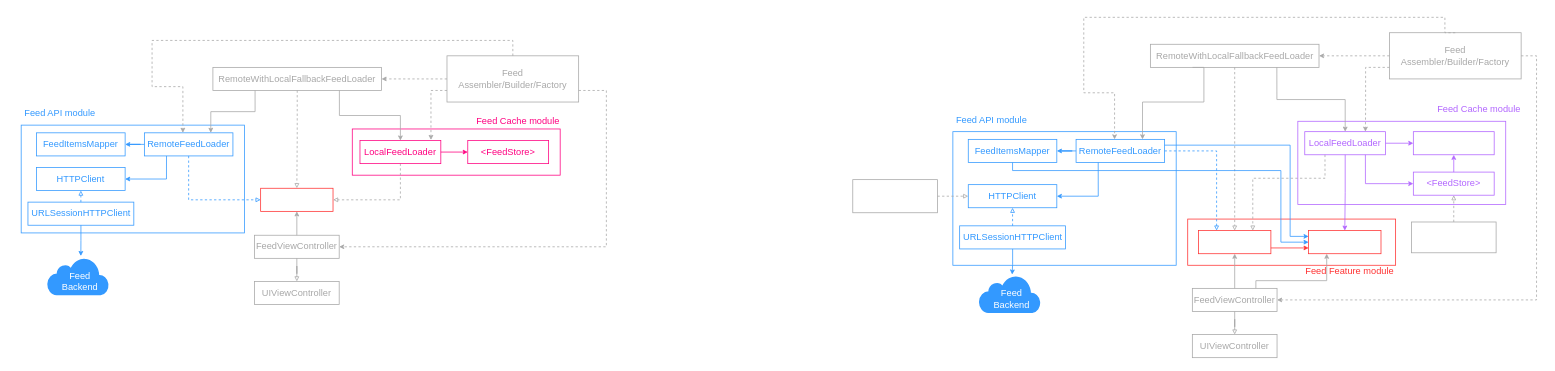
The diagram is 1555 pixels wide and 371 high, and some of its shapes have lost their labels. The centre of each missing label's shape, as x and y in pixels:
<Feed Feature>: the point at 296,199
<FeedLoader>: the point at 1234,242
AnyFeedStore Implementation: the point at 1453,237
AnyHTTPClient Implementation: the point at 894,196
FeedItem: the point at 1344,242
LocalFeedItem: the point at 1453,143
